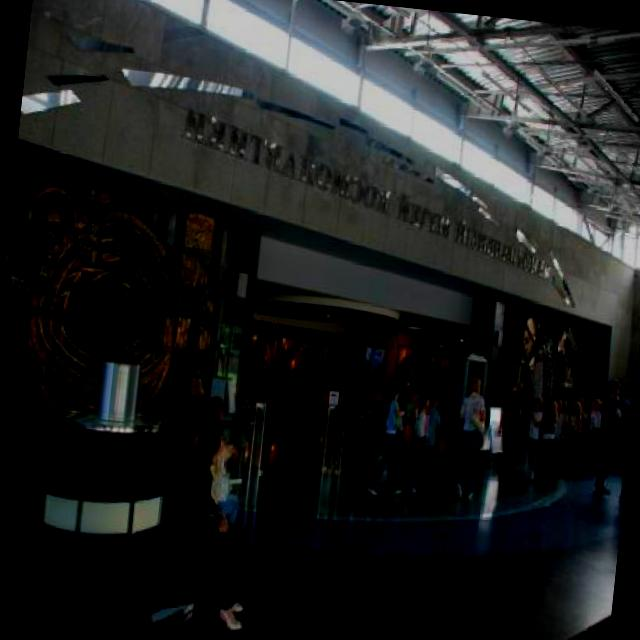Person: (160, 412, 266, 626), (491, 364, 634, 500), (180, 391, 250, 518), (454, 366, 498, 511), (367, 374, 418, 496), (407, 384, 438, 496), (420, 392, 444, 490), (396, 388, 420, 481)
